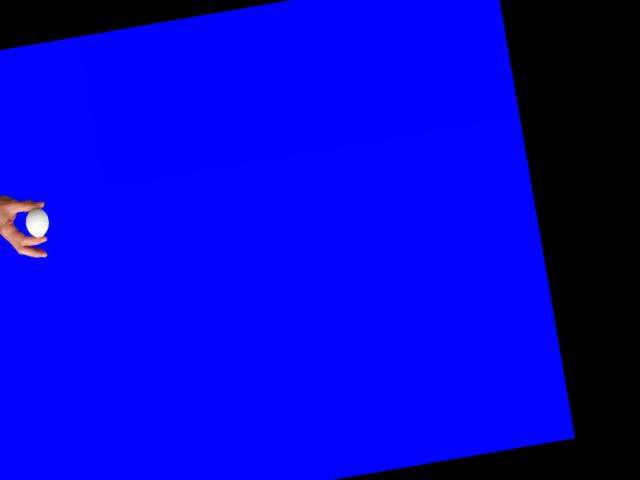egg: (23, 206, 51, 239)
